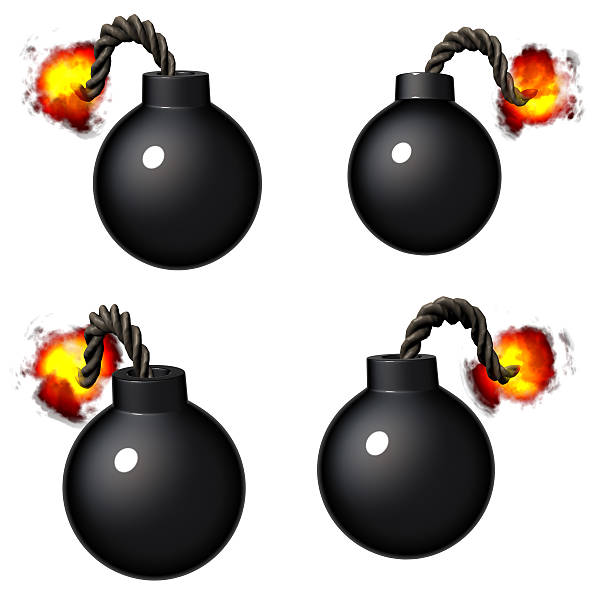e1: (313, 278, 495, 559), (63, 351, 251, 586), (87, 25, 266, 267), (347, 2, 512, 251)
